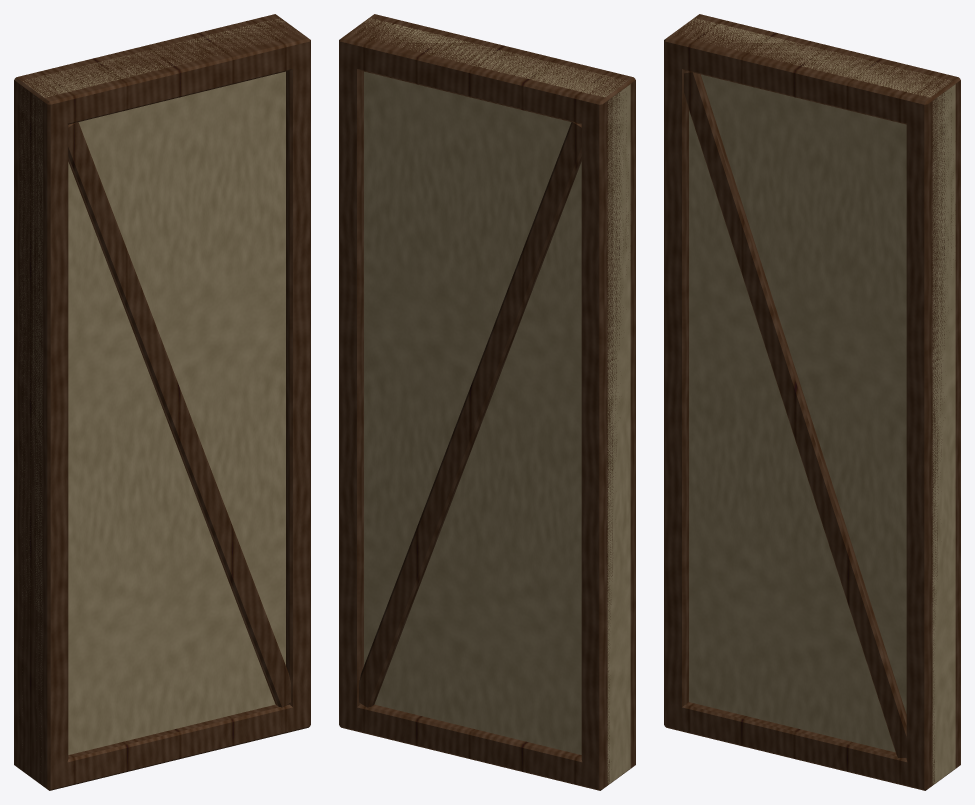
The model's file is wall_timber_b.glb.
The picture shows the model from 3 angles, left to right: view 1: azimuth 30°, elevation 25°; view 2: azimuth 150°, elevation 25°; view 3: azimuth 330°, elevation 25°; orthographic projection.
Visible parts, largest first — view 1: wall_timber_b; view 2: wall_timber_b; view 3: wall_timber_b.
Part boxes in pixels (bbox=[...]): wall_timber_b: bbox=[14, 14, 310, 790]; wall_timber_b: bbox=[339, 14, 635, 790]; wall_timber_b: bbox=[664, 14, 960, 790].
Bounding box in the file's own units: 1 × 2.5 × 0.235.
Materials: 2 (2 with a texture image).
